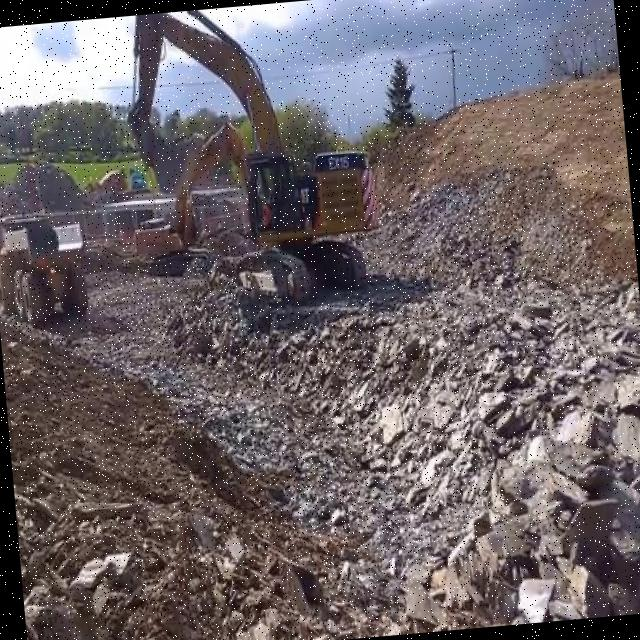Dump Truck: (0, 210, 91, 332)
Excavator: (114, 0, 393, 317), (130, 129, 252, 289), (126, 154, 154, 193)
